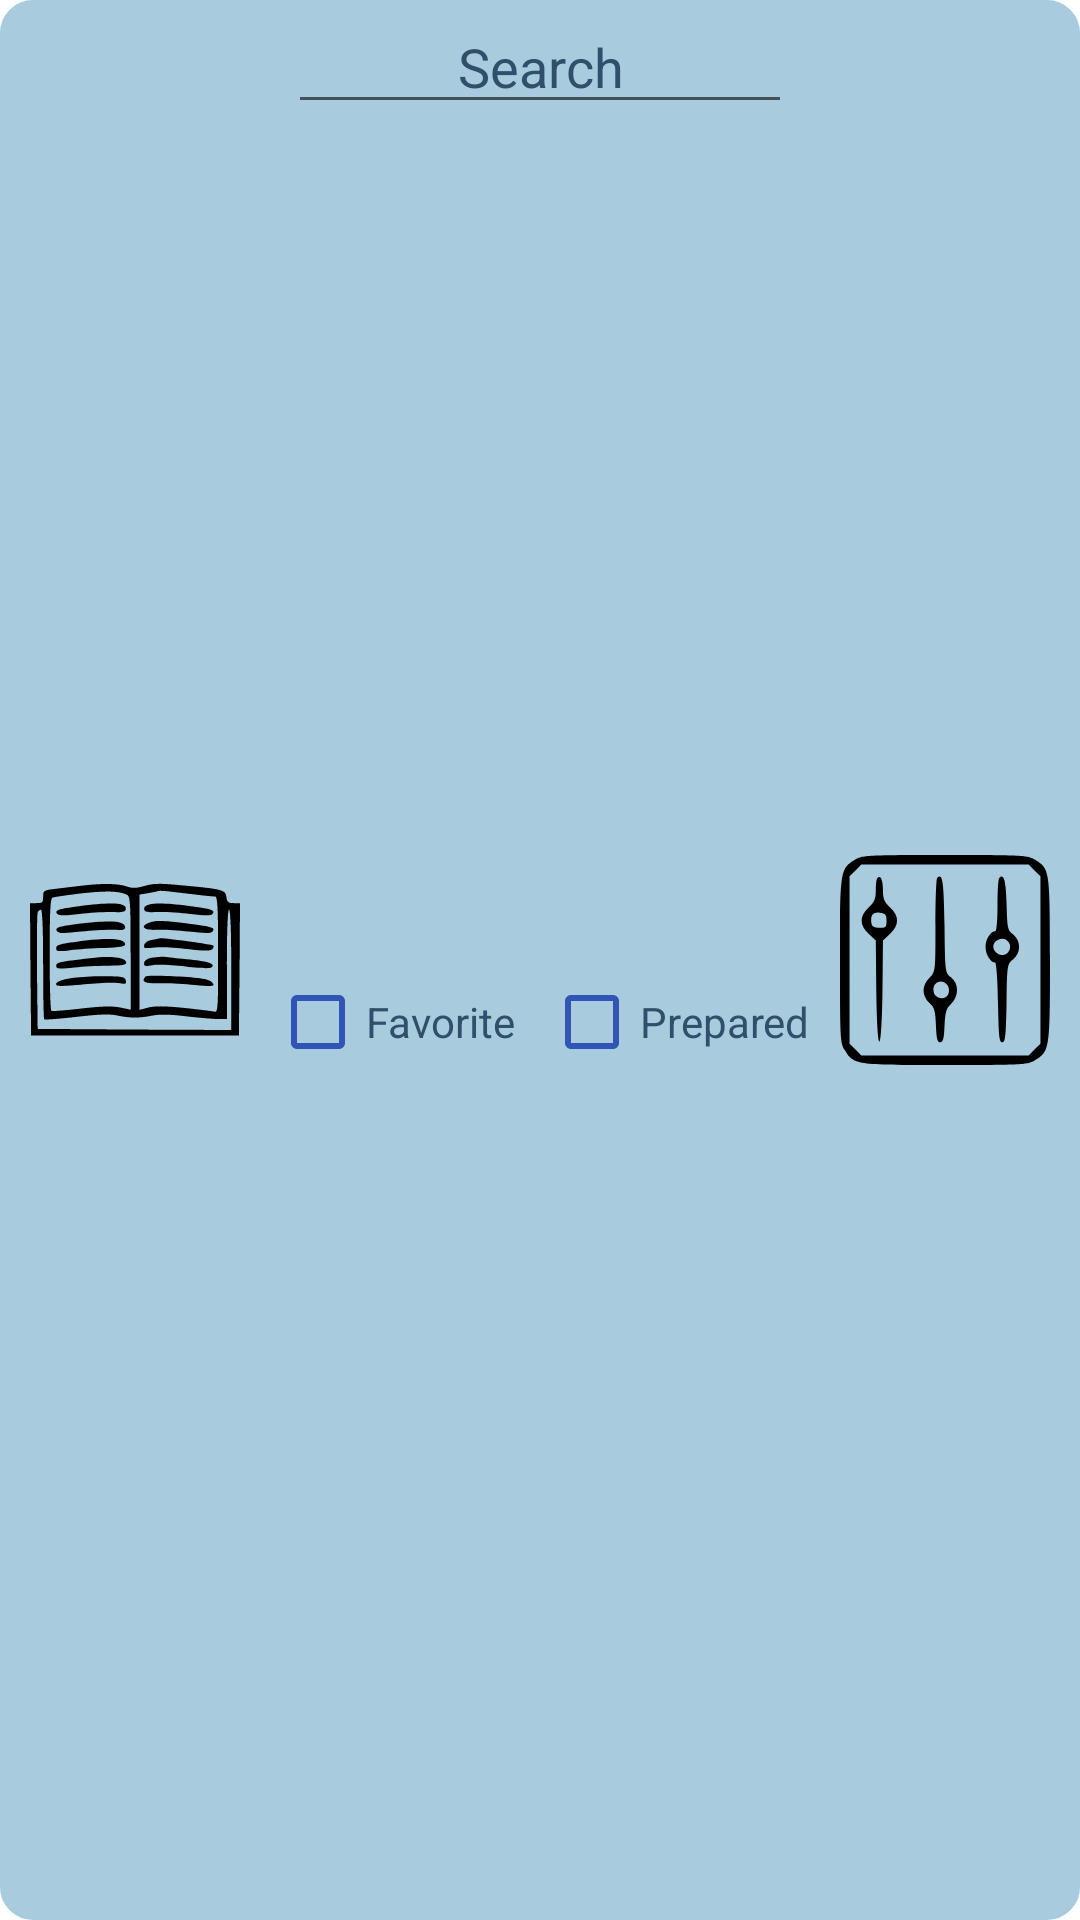

Named icons in this screenshot (1080px x 1920px) and their bounding boxes, region(x1, y1, x2, y2):
book: region(30, 883, 240, 1036)
filter: region(840, 855, 1050, 1065)
